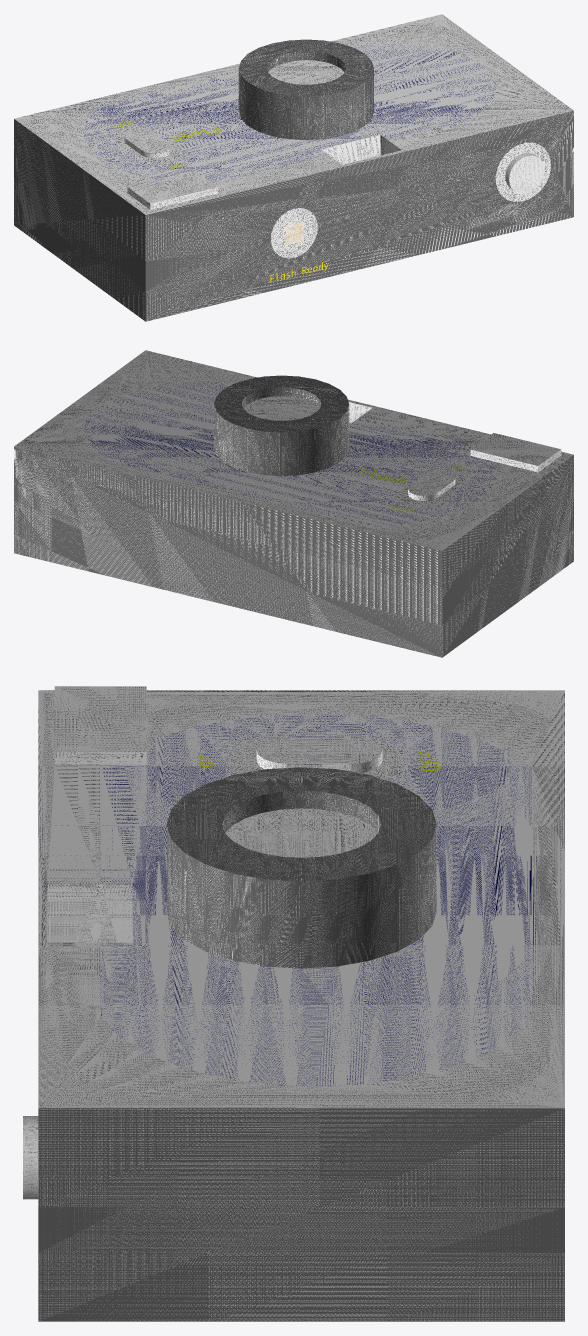
The model's file is model_scale.obj.
3 views of the same model, one above another, from view 1: azimuth 30°, elevation 25°; view 2: azimuth 150°, elevation 25°; view 3: azimuth 270°, elevation 25° (orthographic). The views are drawn at different scales.
Visible parts, largest first — view 1: mesh21_mesh21-geometry, mesh22_mesh22-geometry; view 2: mesh21_mesh21-geometry, mesh22_mesh22-geometry; view 3: mesh21_mesh21-geometry, mesh22_mesh22-geometry.
Boxes of the visible parts, <box> form: mesh21_mesh21-geometry: <box>14,14,573,321</box>; mesh22_mesh22-geometry: <box>238,39,373,140</box>; mesh21_mesh21-geometry: <box>14,350,573,657</box>; mesh22_mesh22-geometry: <box>214,375,349,476</box>; mesh21_mesh21-geometry: <box>23,686,564,1321</box>; mesh22_mesh22-geometry: <box>166,767,436,968</box>.
Bounding box in the file's own units: 0.1425 × 0.0478 × 0.0781.
